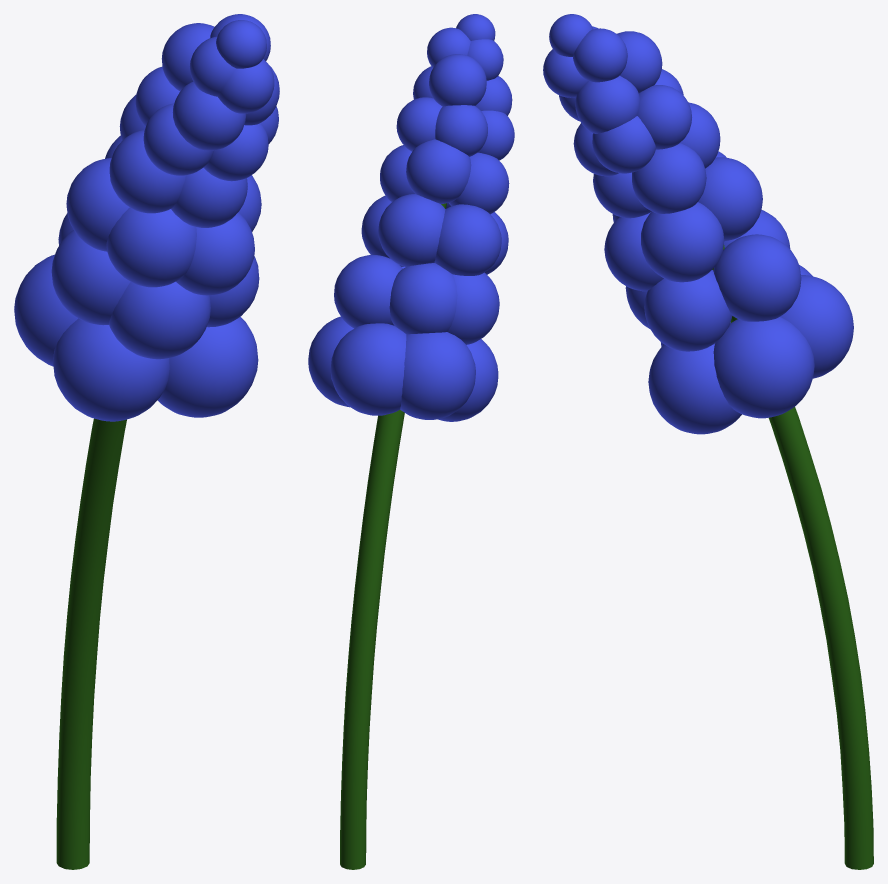
The picture shows the model from 3 angles, left to right: view 1: azimuth 30°, elevation 25°; view 2: azimuth 150°, elevation 25°; view 3: azimuth 270°, elevation 25°; orthographic projection. The views are drawn at different scales.
Parts seen in each view (by area): view 1: NurbsPath; view 2: NurbsPath; view 3: NurbsPath.
Part boxes in pixels (x1,y1,x2,y2): NurbsPath: [14, 14, 279, 869]; NurbsPath: [308, 14, 514, 869]; NurbsPath: [543, 14, 873, 869].
Bounding box in the file's own units: 0.4311 × 1.94 × 0.6828.
